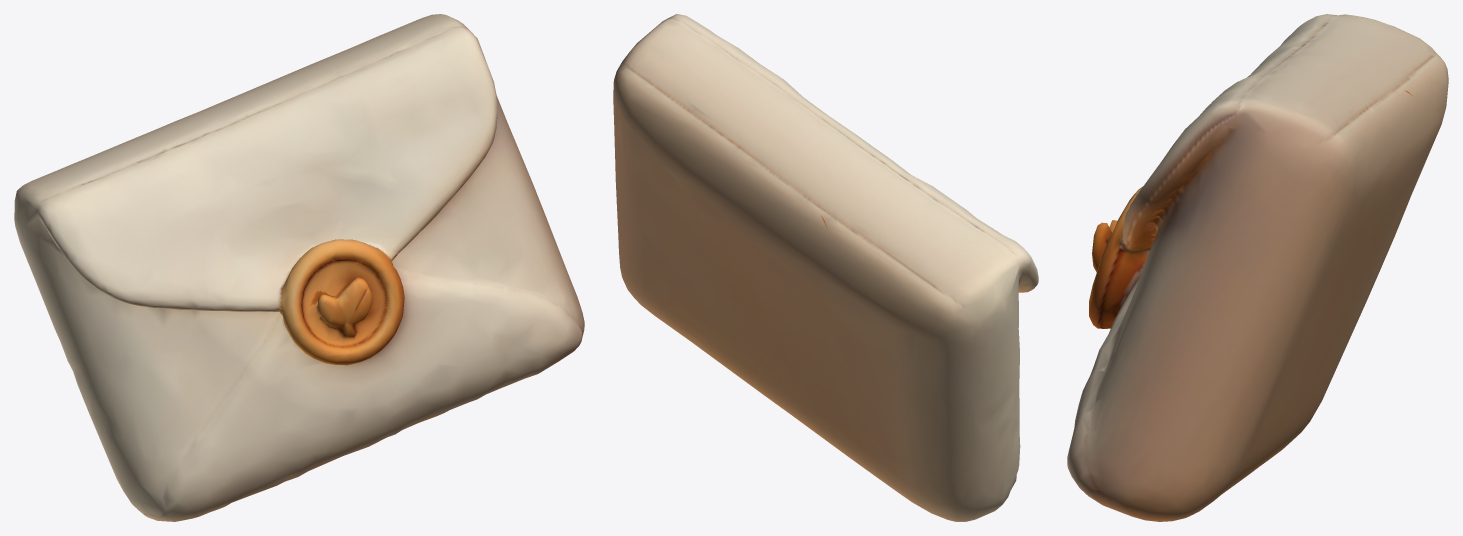
Rendered from sealed-letter.glb.
3 renders of one model, left to right at view 1: azimuth 30°, elevation 25°; view 2: azimuth 150°, elevation 25°; view 3: azimuth 270°, elevation 25°, orthographic. The views are drawn at different scales.
Visible parts, largest first — view 1: sealed-letter; view 2: sealed-letter; view 3: sealed-letter.
Part boxes in pixels (x1=…): sealed-letter: x1=14, y1=14, x2=584, y2=521; sealed-letter: x1=613, y1=14, x2=1038, y2=521; sealed-letter: x1=1067, y1=14, x2=1448, y2=521.
Bounding box in the file's own units: 2.31 × 2 × 1.34.
Materials: 1 (1 with a texture image).
